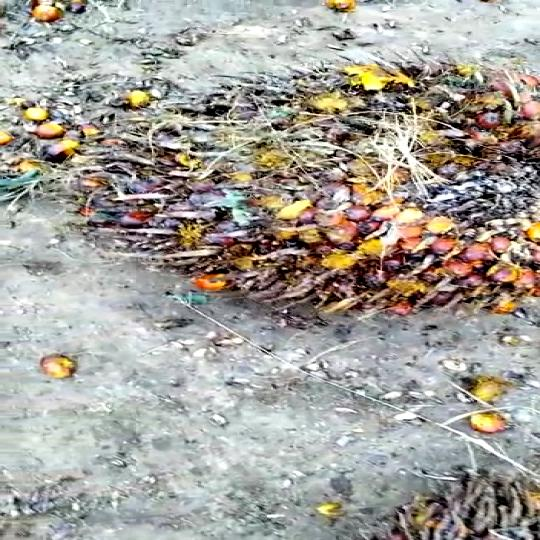masak: (56, 51, 540, 341)
